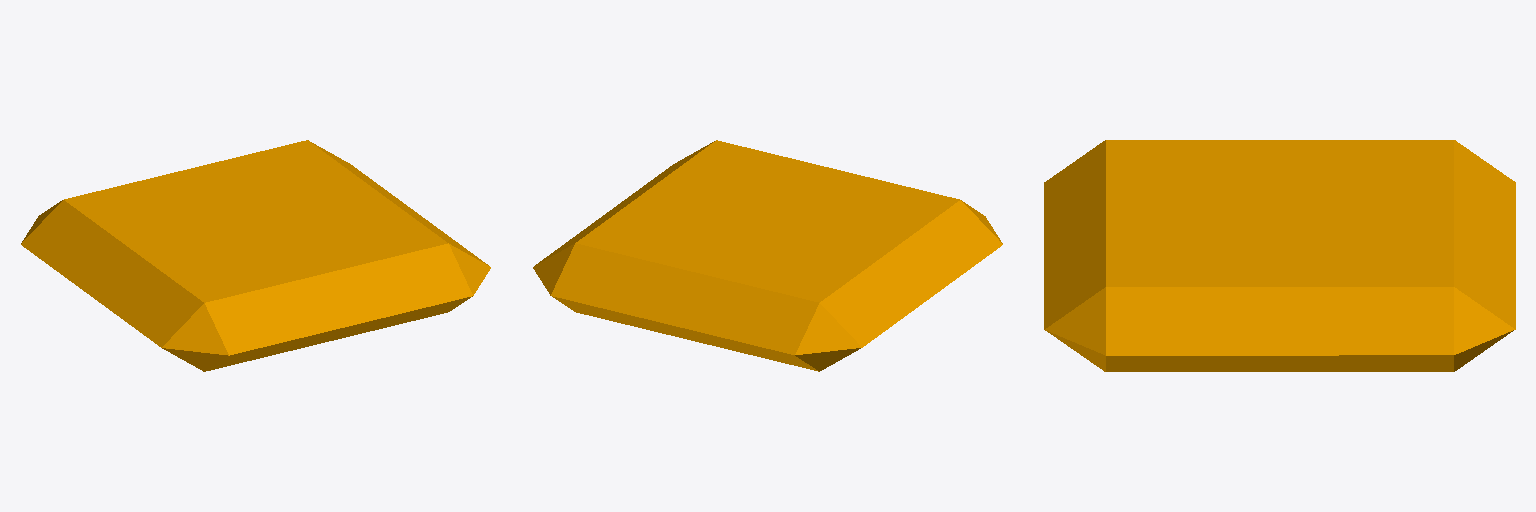
The robot description file, URDF, robot "pillow":
<?xml version="1.0"?>
<robot name="pillow">
  <link name="pillow">
    <inertial>
        <origin rpy="0 0 0" xyz="0 0 0"/>
        <mass value="0.3"/>
        <inertia ixx="4.4e-5" ixy="0" ixz="0" iyy="0" iyz="0" izz="4.4e-5"/>
    </inertial>
    <visual>
      <geometry>
        <mesh filename="pillow.obj"/>
      </geometry>
    </visual>
    <collision>
      <geometry>
        <mesh filename="pillow.obj"/>
      </geometry>
      <surface>
           <bounce restitution_coefficient = "0.1"/>
      </surface>
    </collision>
  </link>
</robot>

--- Render facts (derived) ---
The picture shows the robot from 3 angles, left to right: view 1: azimuth 30°, elevation 25°; view 2: azimuth 150°, elevation 25°; view 3: azimuth 270°, elevation 25°; orthographic projection.
Model pillow with 1 links and 0 joints (none), rooted at pillow, posed every joint at zero.
Visible links, largest first — view 1: pillow; view 2: pillow; view 3: pillow.
Link boxes in pixels (left/top/right/bottom): pillow: left=21, top=140, right=490, bottom=371; pillow: left=533, top=140, right=1002, bottom=371; pillow: left=1044, top=140, right=1515, bottom=371.
Size in the robot's own frame: 0.23 by 0.23 by 0.0461 metres.
Meshes: 1 distinct files referenced, 1 mesh visuals loaded (1 OBJ).